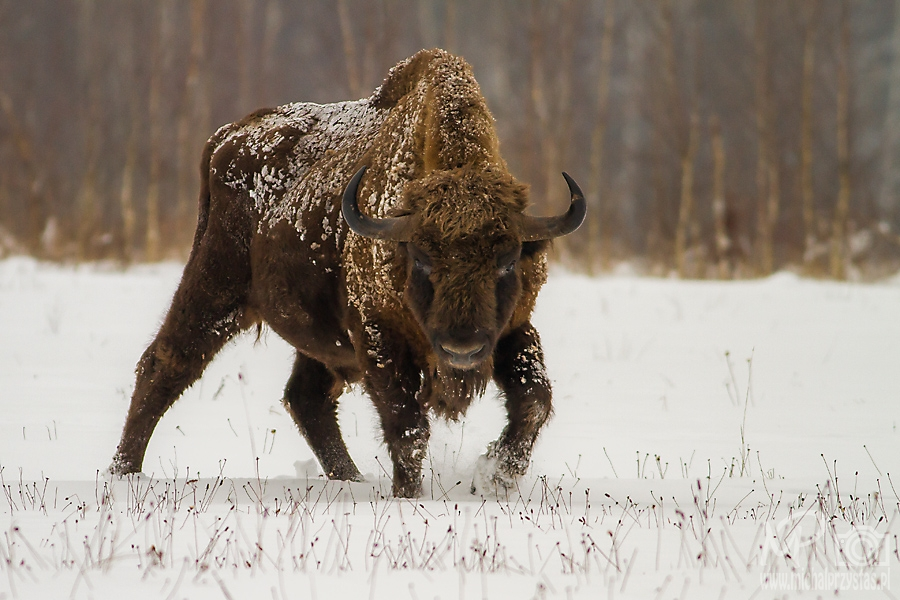zubr: (62, 36, 734, 546)
